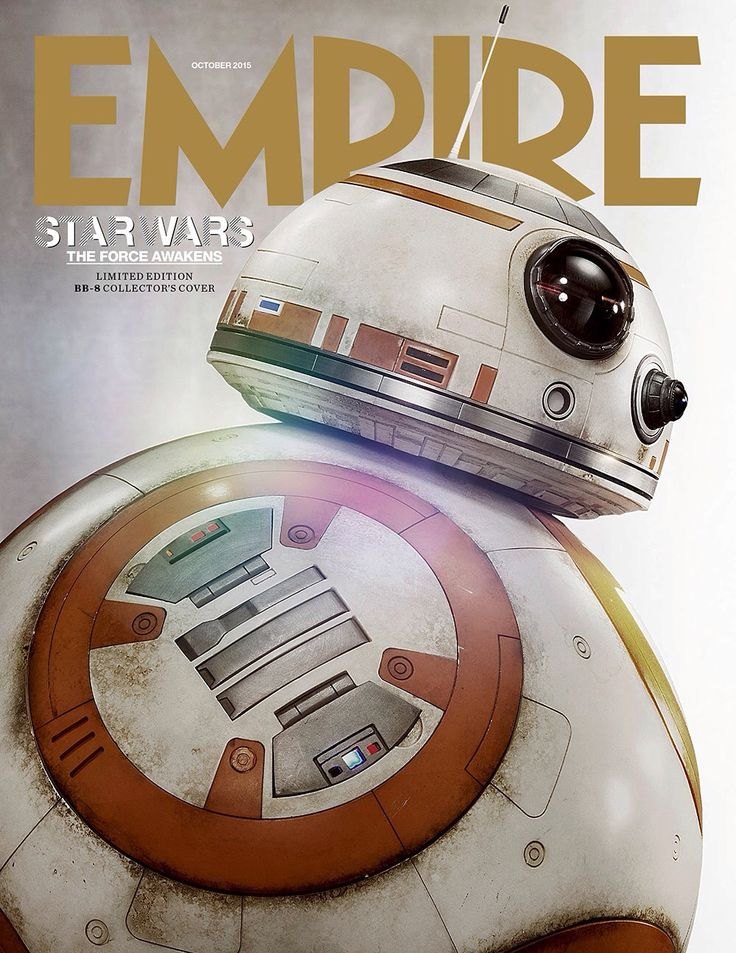bb8: (2, 158, 704, 952)
